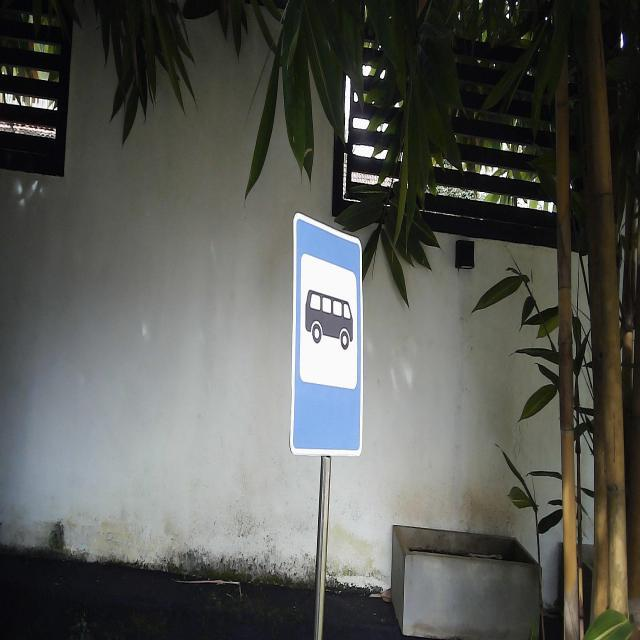bus_stop: (289, 211, 365, 459)
